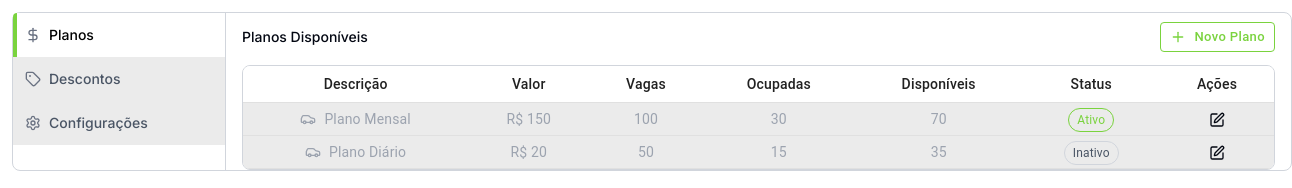
Test case: GaragePlansCard › Tab navigation › should switch to settings tab
Click the button "Configurações" at coordinates (119, 123), box [13,101,225,145]
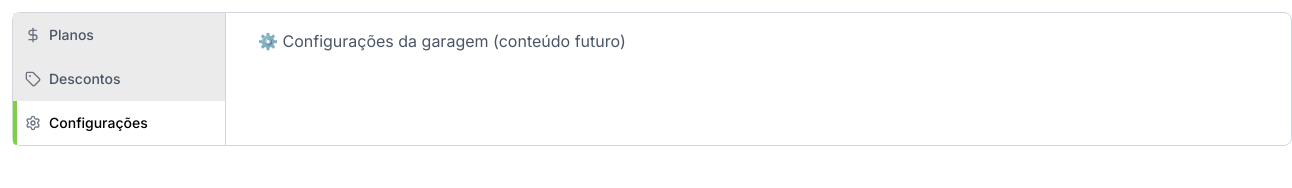
Expected: the text "⚙️ Configurações da garagem (conteúdo futuro)" is shown, [258,31,626,51]
Expected: the heading "Planos Disponíveis" is gone
